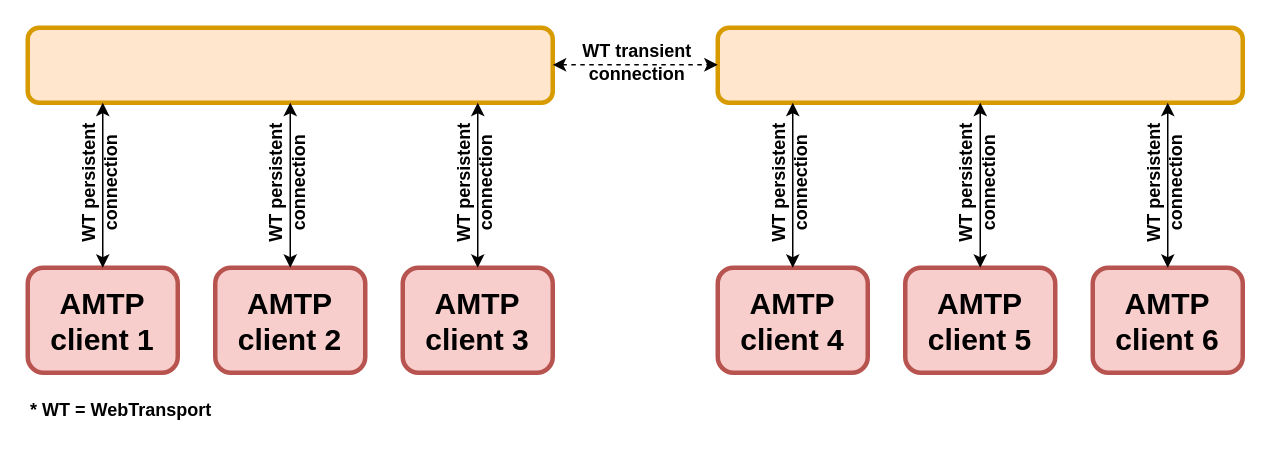
Image size: 1271x459. Some labels were removed from this diagram. The shapes that lost their labels are listed below. From the top down, each one's centre as x and y in pixels, then its label:
the point at 289,64: Own AMTP server
the point at 979,64: Foreign AMTP server
